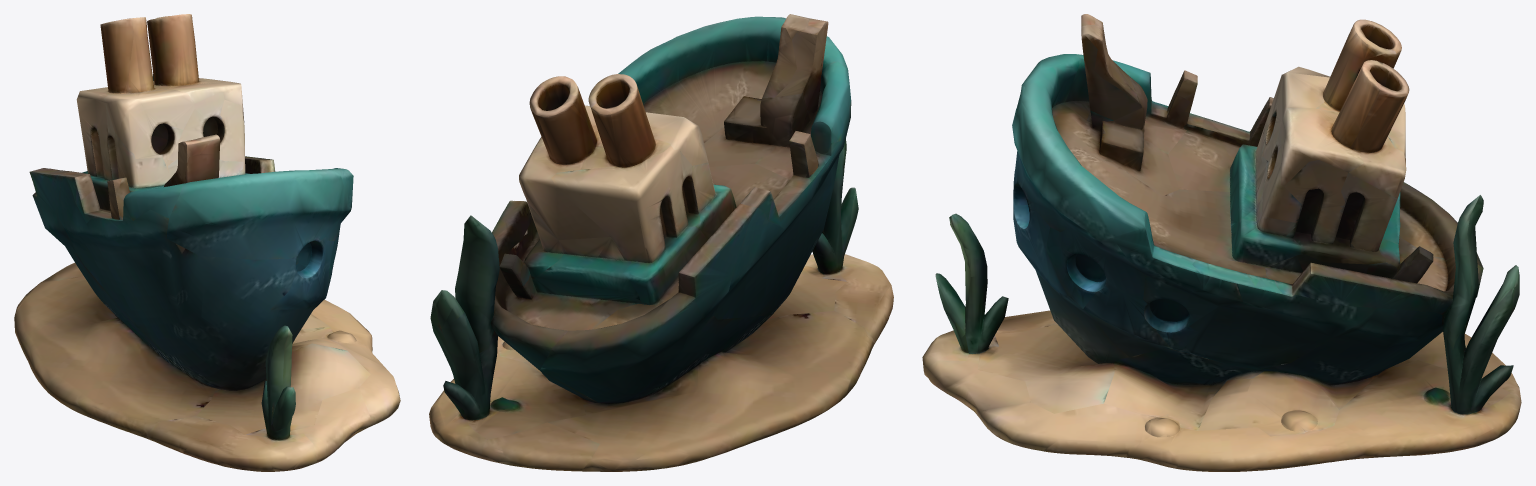
File: shipwreck_pbr.glb
The picture shows the model from 3 angles, left to right: view 1: azimuth 30°, elevation 25°; view 2: azimuth 150°, elevation 25°; view 3: azimuth 270°, elevation 25°; orthographic projection. The views are drawn at different scales.
Parts seen in each view (by area): view 1: model.013; view 2: model.013; view 3: model.013.
Part boxes in pixels (<box>): model.013: <box>14,14,400,471</box>; model.013: <box>429,14,893,471</box>; model.013: <box>922,14,1521,471</box>.
Size of the model in its own units: 1.31 by 1.28 by 1.97.
Materials: 1 (1 with a texture image).
